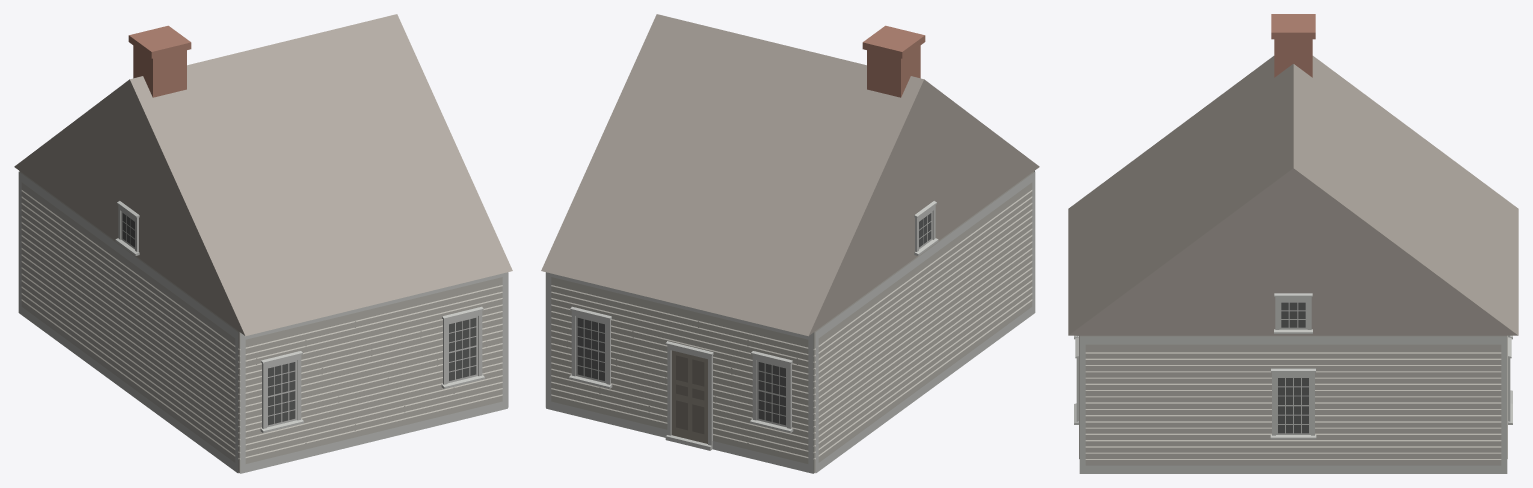
File: recon_1835_blk_west_randolph_canal_d6_04__inferred_1835.glb
The picture shows the model from 3 angles, left to right: view 1: azimuth 30°, elevation 25°; view 2: azimuth 150°, elevation 25°; view 3: azimuth 270°, elevation 25°; orthographic projection. The views are drawn at different scales.
Visible parts, largest first — view 1: recon_1835_blk_west_randolph_canal_d6_04__inferred_1835; view 2: recon_1835_blk_west_randolph_canal_d6_04__inferred_1835; view 3: recon_1835_blk_west_randolph_canal_d6_04__inferred_1835.
Part boxes in pixels (x1,y1,x2,y2): recon_1835_blk_west_randolph_canal_d6_04__inferred_1835: (14, 14, 512, 473); recon_1835_blk_west_randolph_canal_d6_04__inferred_1835: (541, 14, 1039, 473); recon_1835_blk_west_randolph_canal_d6_04__inferred_1835: (1068, 14, 1518, 473).
Bounding box in the file's own units: 6.84 × 8.19 × 9.91.
